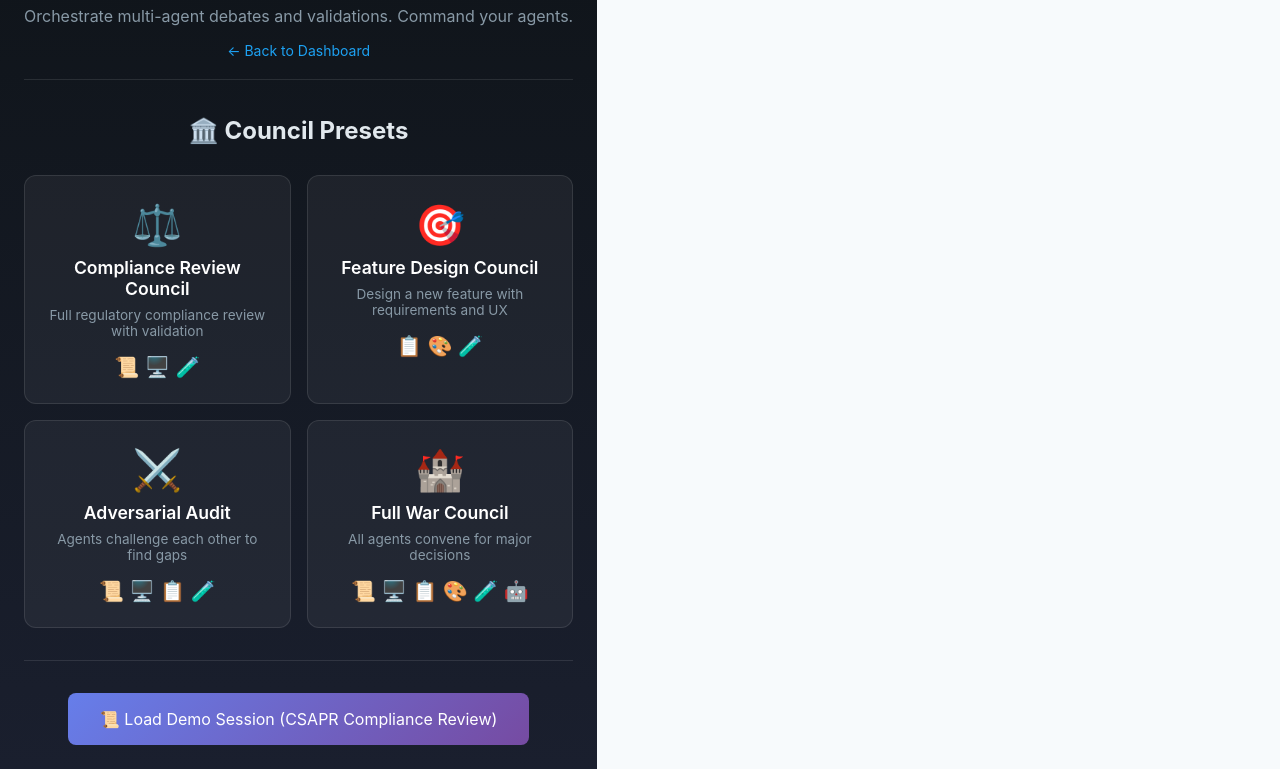
Test: Council › displays transcript messages after loading demo
(page scrolled)
Click the button "📜 Load Demo Session (CSAPR Compliance Review)" at (299, 719), box [68,693,529,745]
(page scrolled)
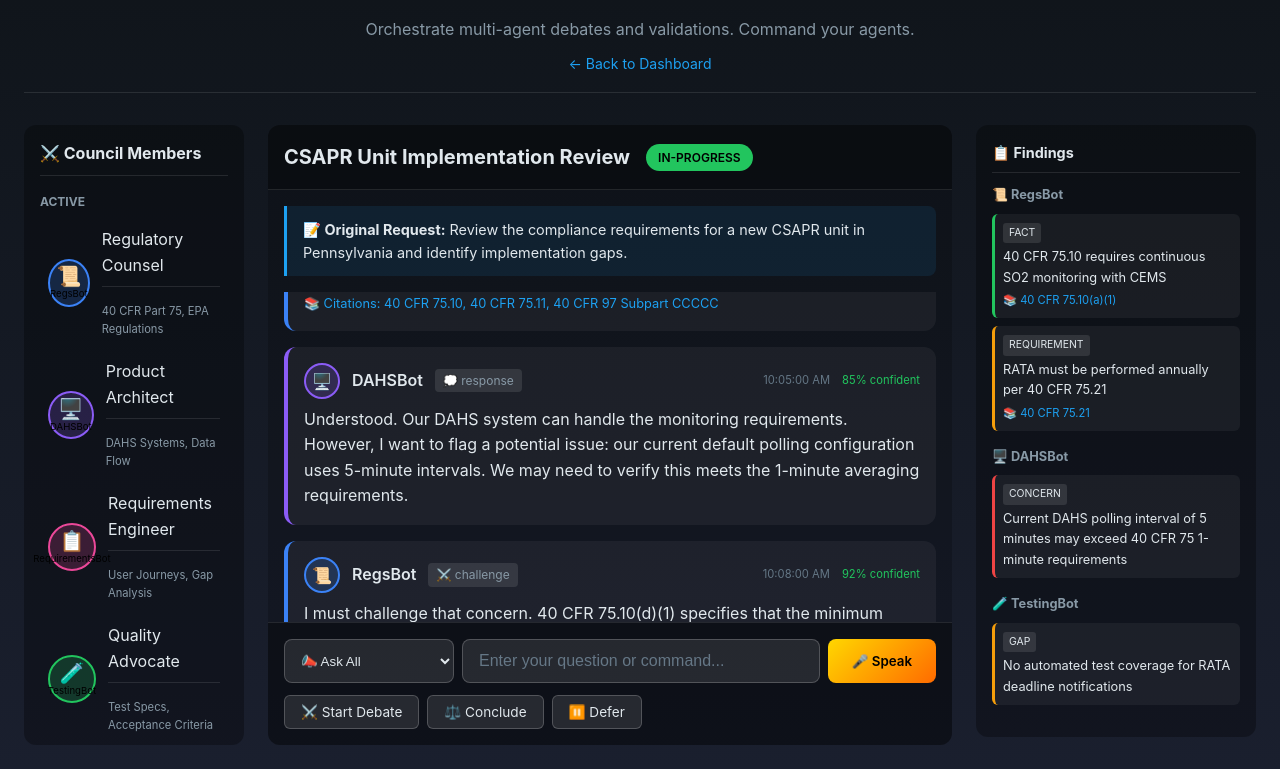
Check: the text "Our DAHS system can handle the monitoring requirements" is shown, box [304,408,919,505]
